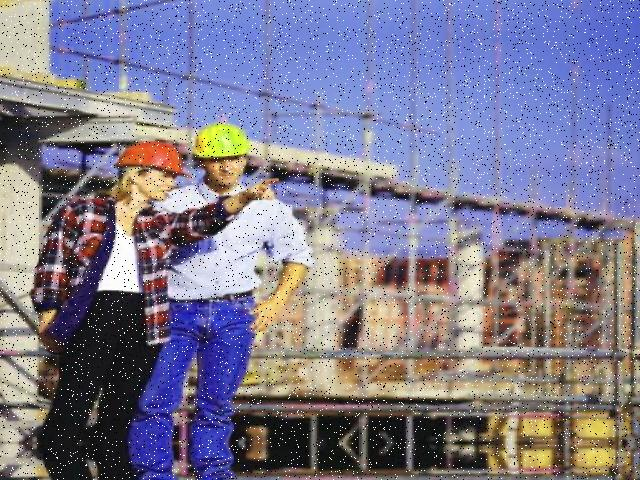Helmet: (113, 135, 194, 182), (192, 117, 258, 165)
